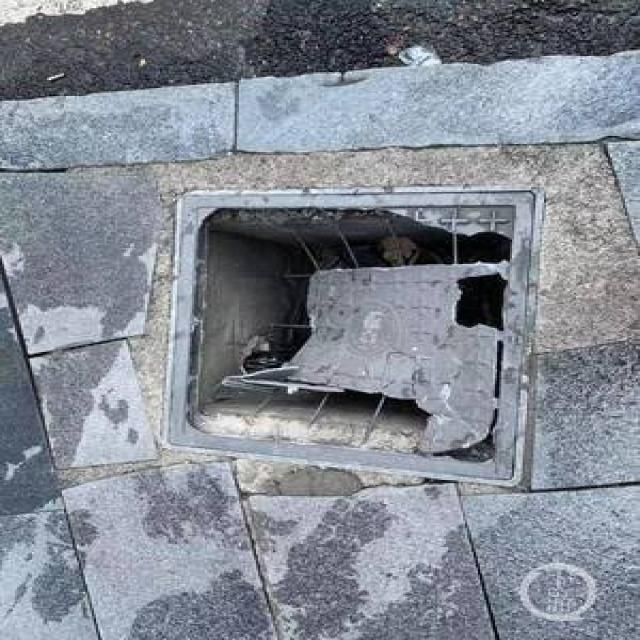manhole: (148, 179, 550, 491)
